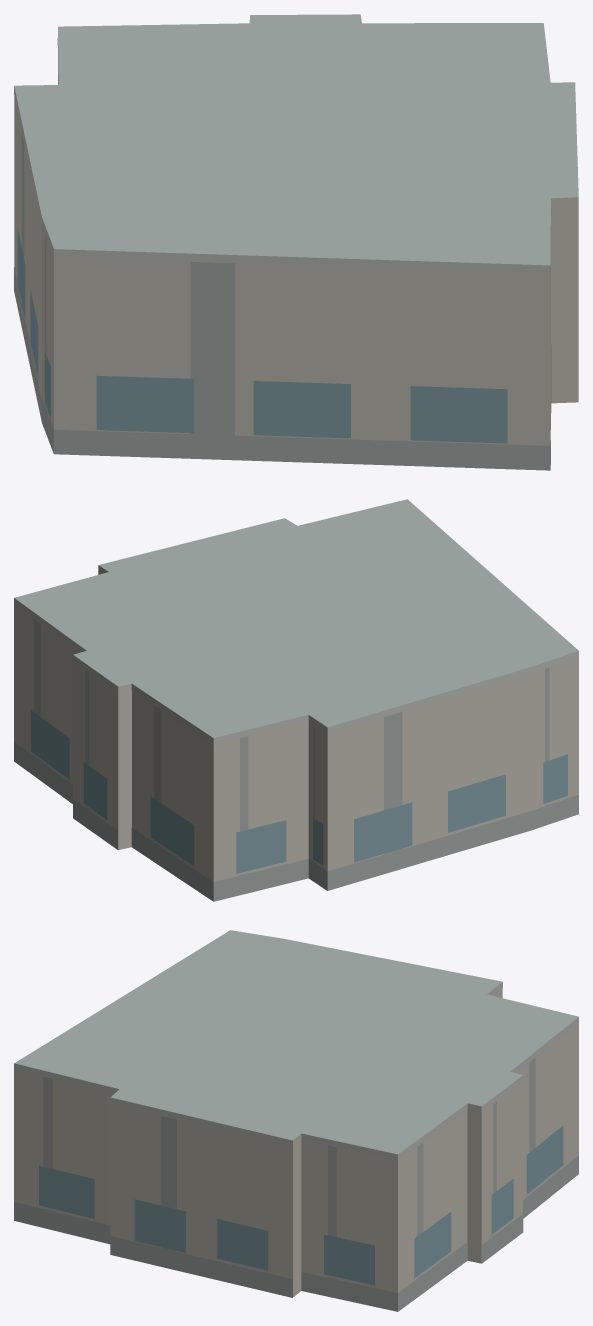
Rendered from survey-upis-32737069.glb.
3 views of the same model, one above another, from view 1: azimuth 30°, elevation 25°; view 2: azimuth 150°, elevation 25°; view 3: azimuth 270°, elevation 25° (orthographic). The views are drawn at different scales.
Parts seen in each view (by area): view 1: survey-upis-32737069.tmp; view 2: survey-upis-32737069.tmp; view 3: survey-upis-32737069.tmp.
Part boxes in pixels (box(x1,y1,x2,y2)): survey-upis-32737069.tmp: box(14, 14, 578, 470); survey-upis-32737069.tmp: box(14, 499, 578, 901); survey-upis-32737069.tmp: box(14, 930, 578, 1311).
Size of the model in its own units: 18.65 by 6.1 by 19.84.
